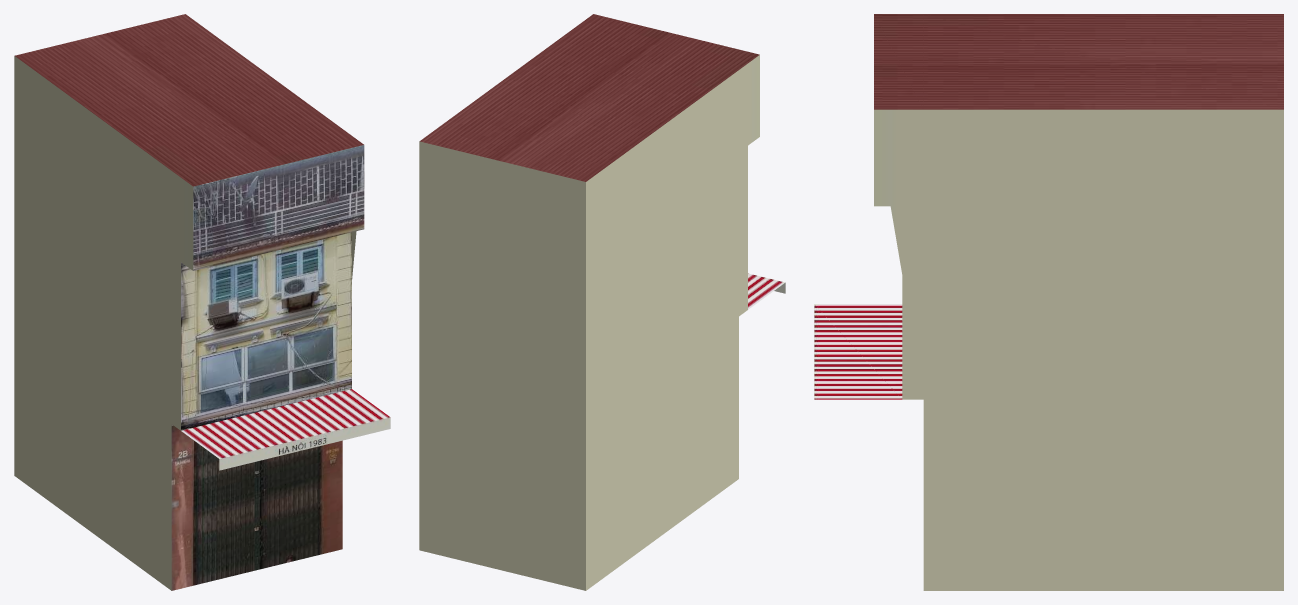
3 views of the same model, side by side, from view 1: azimuth 30°, elevation 25°; view 2: azimuth 150°, elevation 25°; view 3: azimuth 270°, elevation 25° (orthographic). The views are drawn at different scales.
Parts seen in each view (by area): view 1: HN912___Ha_Noi_1983; view 2: HN912___Ha_Noi_1983; view 3: HN912___Ha_Noi_1983.
Part boxes in pixels (left/top/right/bottom): HN912___Ha_Noi_1983: left=14, top=14, right=390, bottom=590; HN912___Ha_Noi_1983: left=419, top=14, right=785, bottom=590; HN912___Ha_Noi_1983: left=814, top=14, right=1283, bottom=590.
Size of the model in its own units: 4 by 9.39 by 8.3.
1 material, 1 textured.
